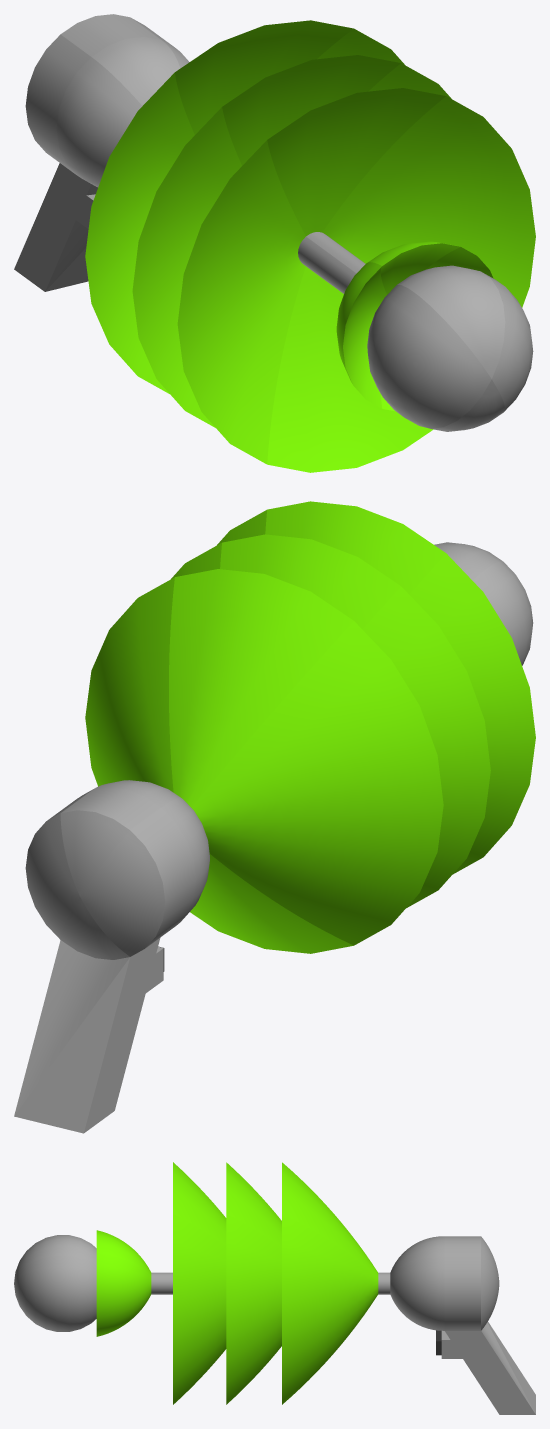
The picture shows the model from 3 angles, top to bottom: view 1: azimuth 30°, elevation 25°; view 2: azimuth 150°, elevation 25°; view 3: azimuth 270°, elevation 25°; orthographic projection. The views are drawn at different scales.
Parts seen in each view (by area): view 1: Layer0_001; view 2: Layer0_001; view 3: Layer0_001.
Part boxes in pixels (left/top/right/bottom): Layer0_001: left=14, top=14, right=535, bottom=472; Layer0_001: left=14, top=501, right=535, bottom=1133; Layer0_001: left=14, top=1162, right=535, bottom=1414.
Size of the model in its own units: 20.51 by 21.51 by 43.91.
